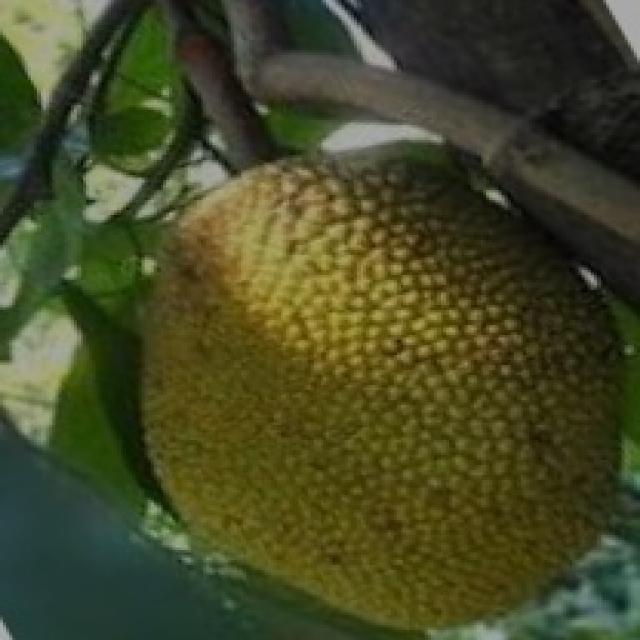Fruit: (274, 252, 637, 640)
